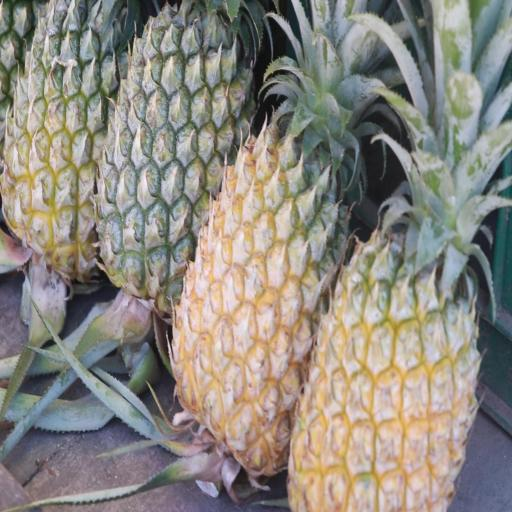------------------------------: (0, 0, 140, 291)
Pineapple - v8 v1: (20, 0, 210, 482), (286, 162, 484, 512)
